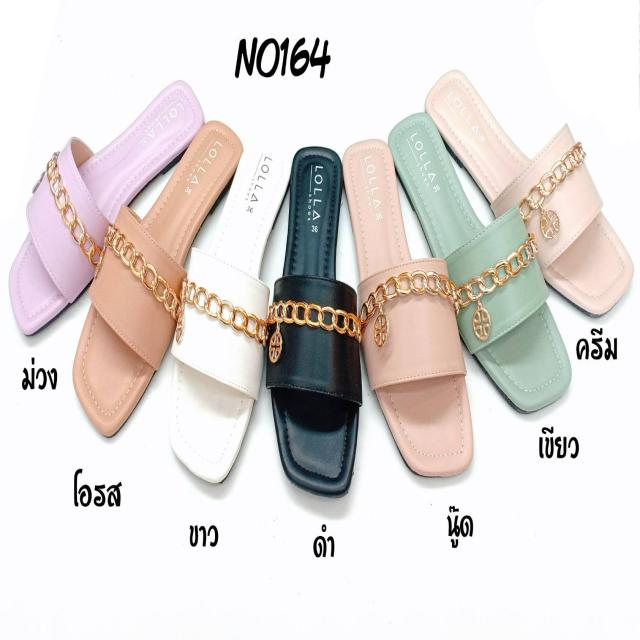black: (278, 144, 358, 502)
cream: (432, 68, 626, 322)
green: (394, 111, 572, 409)
nood: (339, 132, 478, 473)
orot: (70, 123, 239, 437)
purple: (11, 75, 199, 330)
white: (174, 148, 289, 480)
